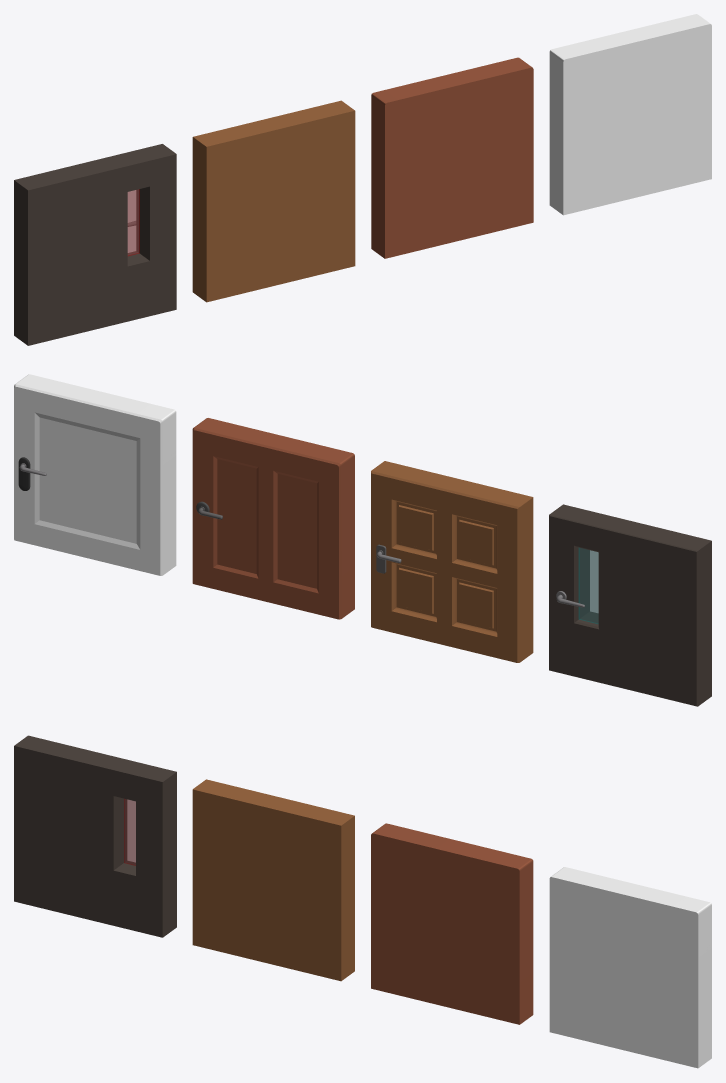
Rendered from Doors.fbx.
The picture shows the model from 3 angles, top to bottom: view 1: azimuth 30°, elevation 25°; view 2: azimuth 150°, elevation 25°; view 3: azimuth 330°, elevation 25°; orthographic projection.
Visible parts, largest first — view 1: Door3, Door4, Door1, Door2; view 2: Door3, Door2, Door1, Door4; view 3: Door4, Door3, Door2, Door1.
Boxes of the visible parts, box(x1,y1,x2,y2) form: Door3: box(192, 100, 355, 302); Door4: box(14, 144, 176, 345); Door1: box(549, 14, 711, 215); Door2: box(371, 57, 533, 258); Door3: box(371, 461, 533, 662); Door2: box(192, 418, 354, 619); Door1: box(14, 374, 176, 575); Door4: box(549, 504, 711, 706); Door4: box(14, 735, 176, 937); Door3: box(192, 779, 354, 981); Door2: box(371, 823, 533, 1024); Door1: box(549, 867, 711, 1068).
Size of the model in its own units: 230 by 50 by 12.02.
Materials: 5 (3 with a texture image).
